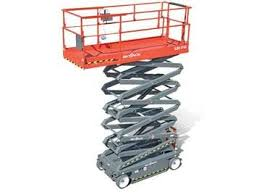Scissor Lift: (61, 1, 192, 190)
